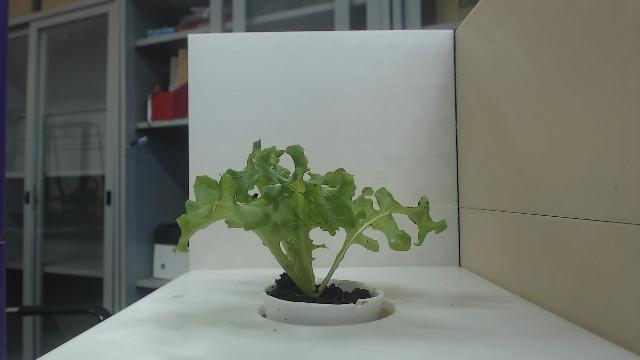Vegetative Stage: (171, 136, 449, 300)
